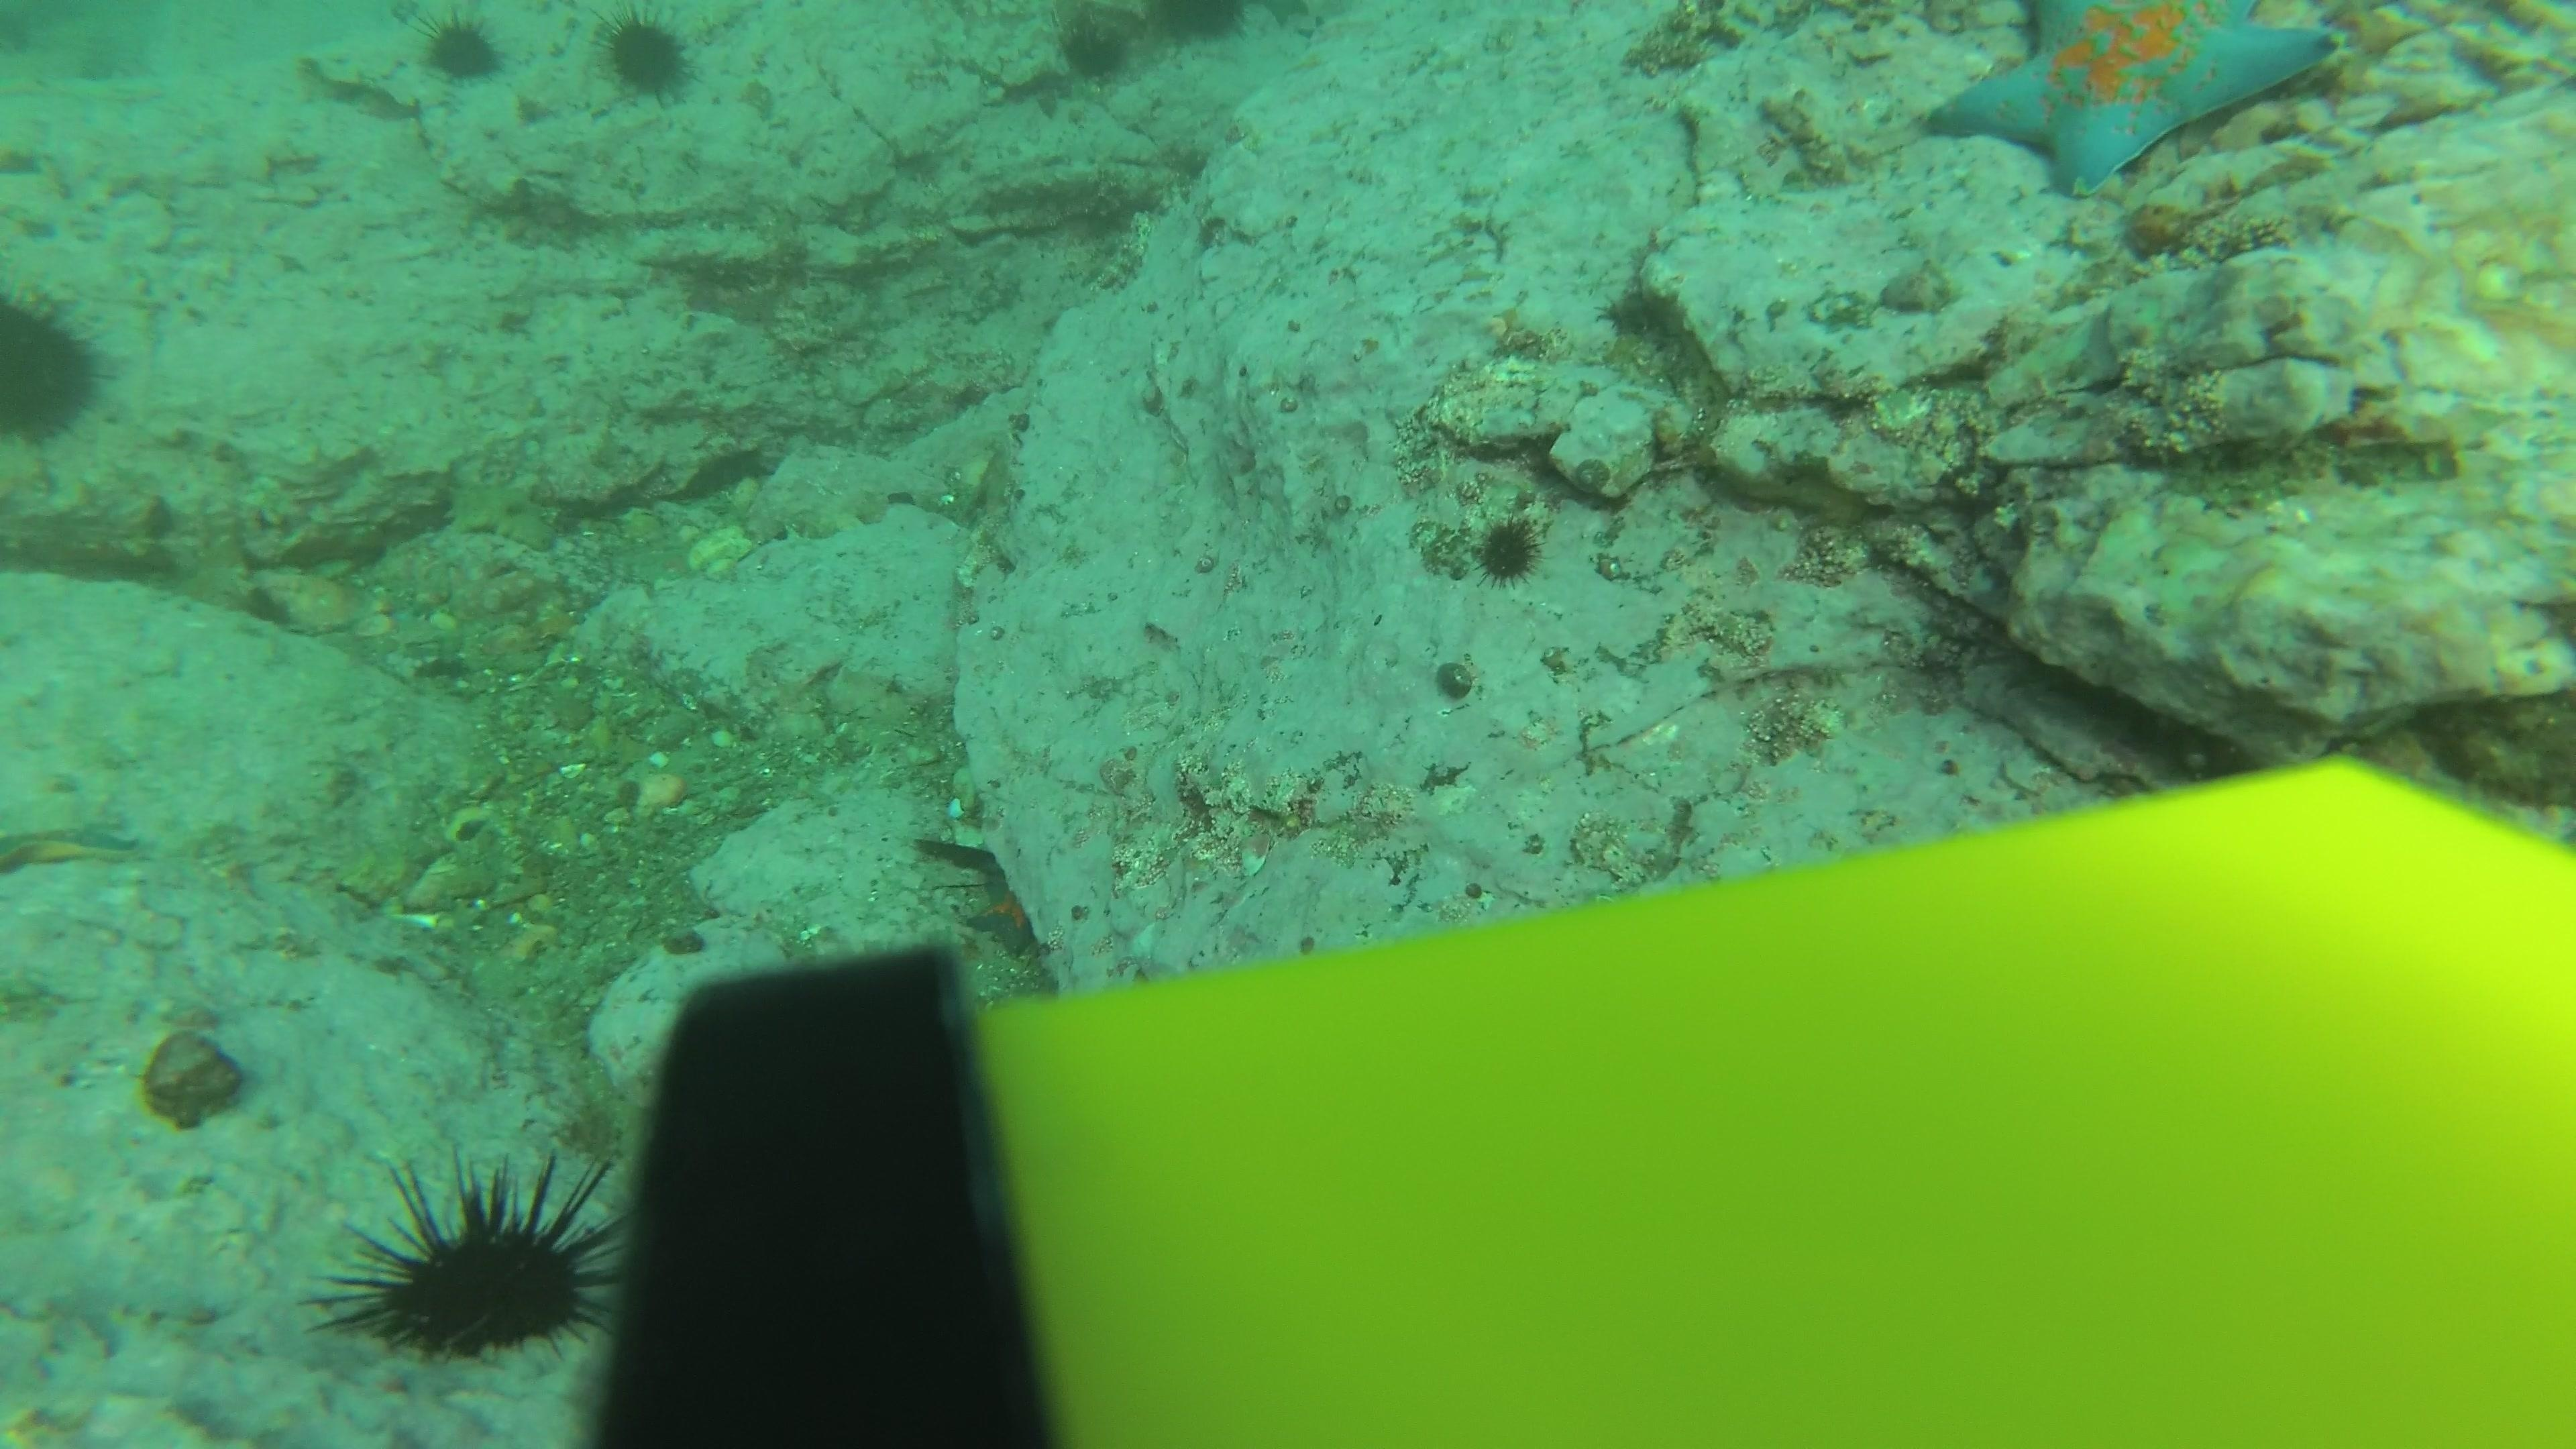echinus: (322, 1143, 632, 1362), (0, 285, 108, 449), (1435, 497, 1550, 602), (589, 7, 702, 108), (410, 9, 510, 88), (1051, 9, 1139, 87), (1141, 0, 1256, 55)
starfish: (1918, 2, 2346, 202), (439, 464, 564, 552), (0, 812, 147, 878), (959, 878, 1044, 957)
